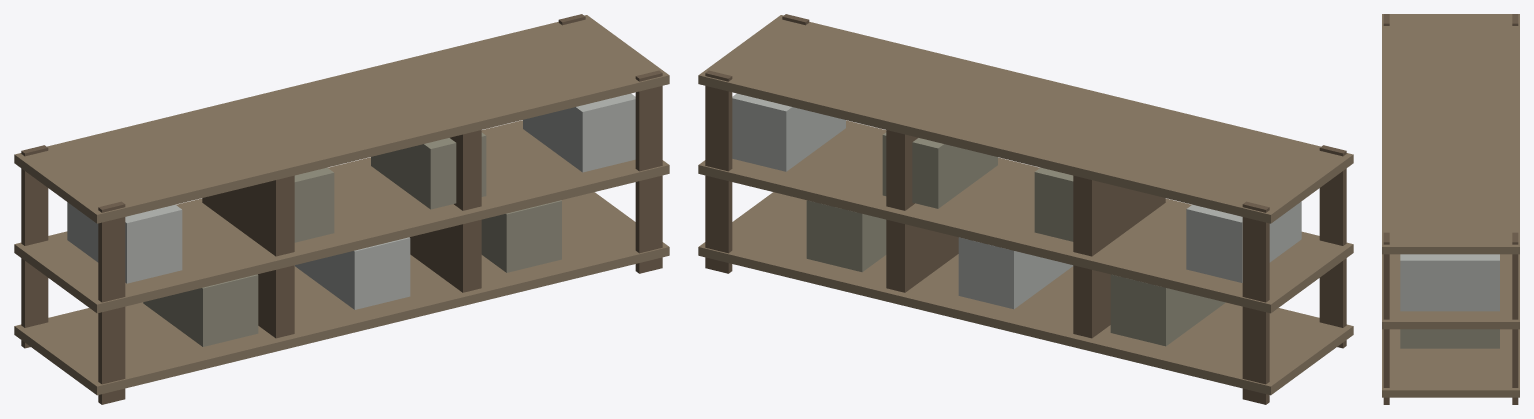
Rendered from record_shelf_row.glb.
3 views of the same model, side by side, from view 1: azimuth 30°, elevation 25°; view 2: azimuth 150°, elevation 25°; view 3: azimuth 270°, elevation 25° (orthographic). The views are drawn at different scales.
Parts seen in each view (by area): view 1: record_shelf_row; view 2: record_shelf_row; view 3: record_shelf_row.
Boxes of the visible parts, bbox=[...] form: record_shelf_row: bbox=[14, 14, 669, 404]; record_shelf_row: bbox=[698, 14, 1353, 404]; record_shelf_row: bbox=[1382, 14, 1519, 404].
Size of the model in its own units: 3.84 by 1.25 by 0.96.
